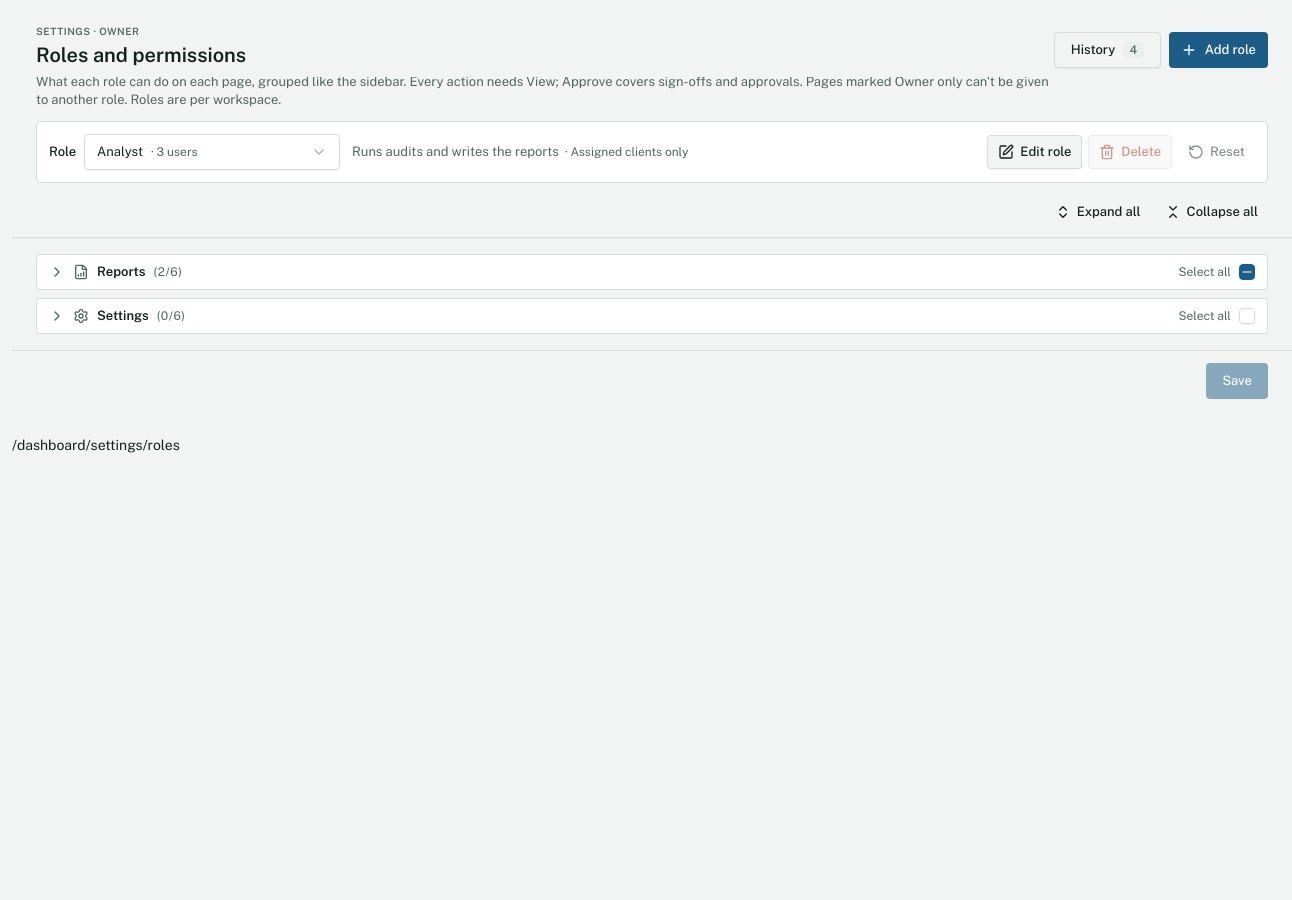
Scenario: RolesPage › expands and collapses every group
Expected: the dropdown named "Role" is shown, [84,134,340,170]
Click the button "Expand all" at (1098, 212), box [1045,195,1151,229]
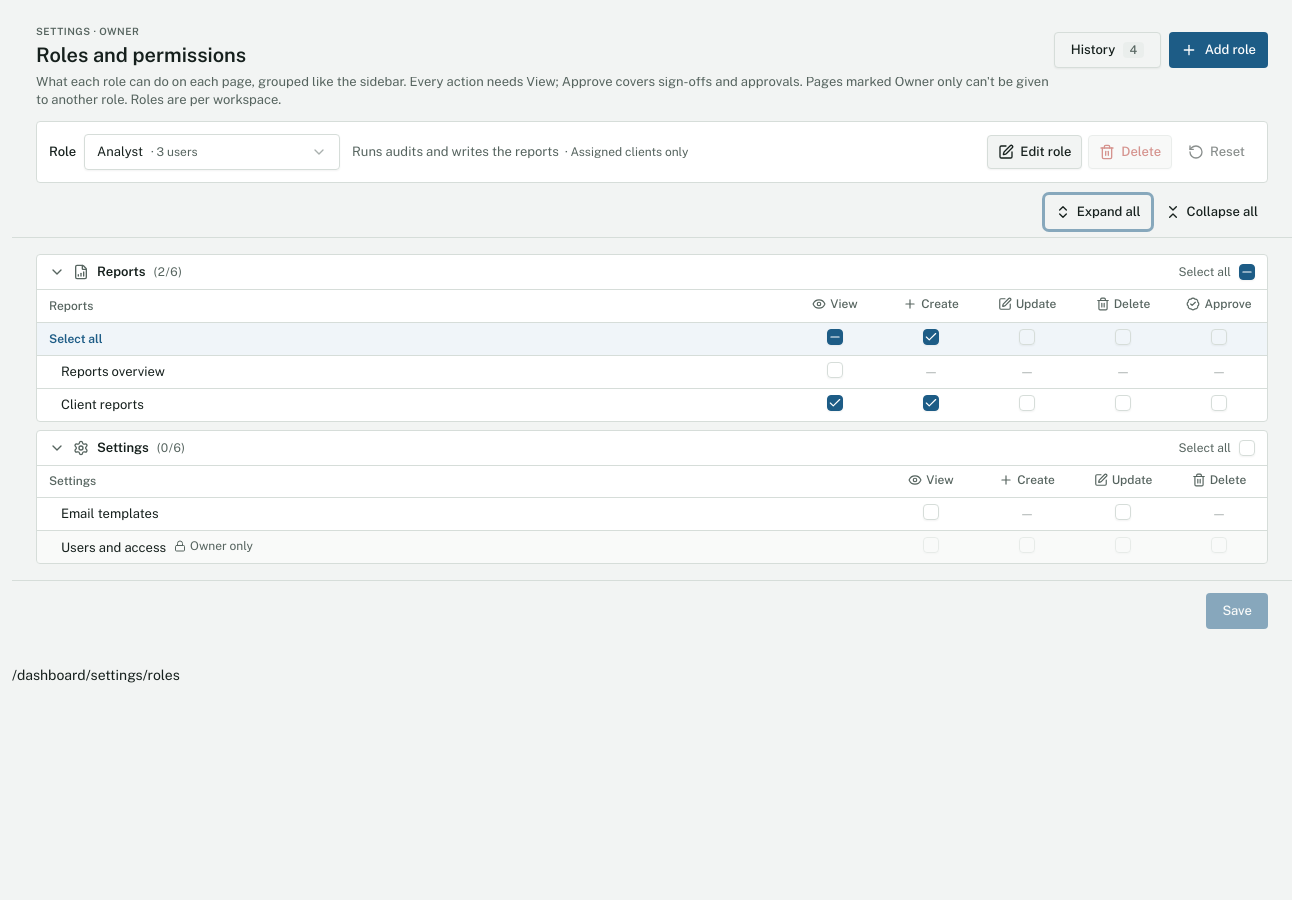
Expected: the button "Reports (2/6)" is expanded, [49,263,1166,281]
Expected: the button "Settings (0/6)" is expanded, [49,438,1166,456]
Click the button "Collapse all" at (1211, 212), box [1155,195,1268,229]
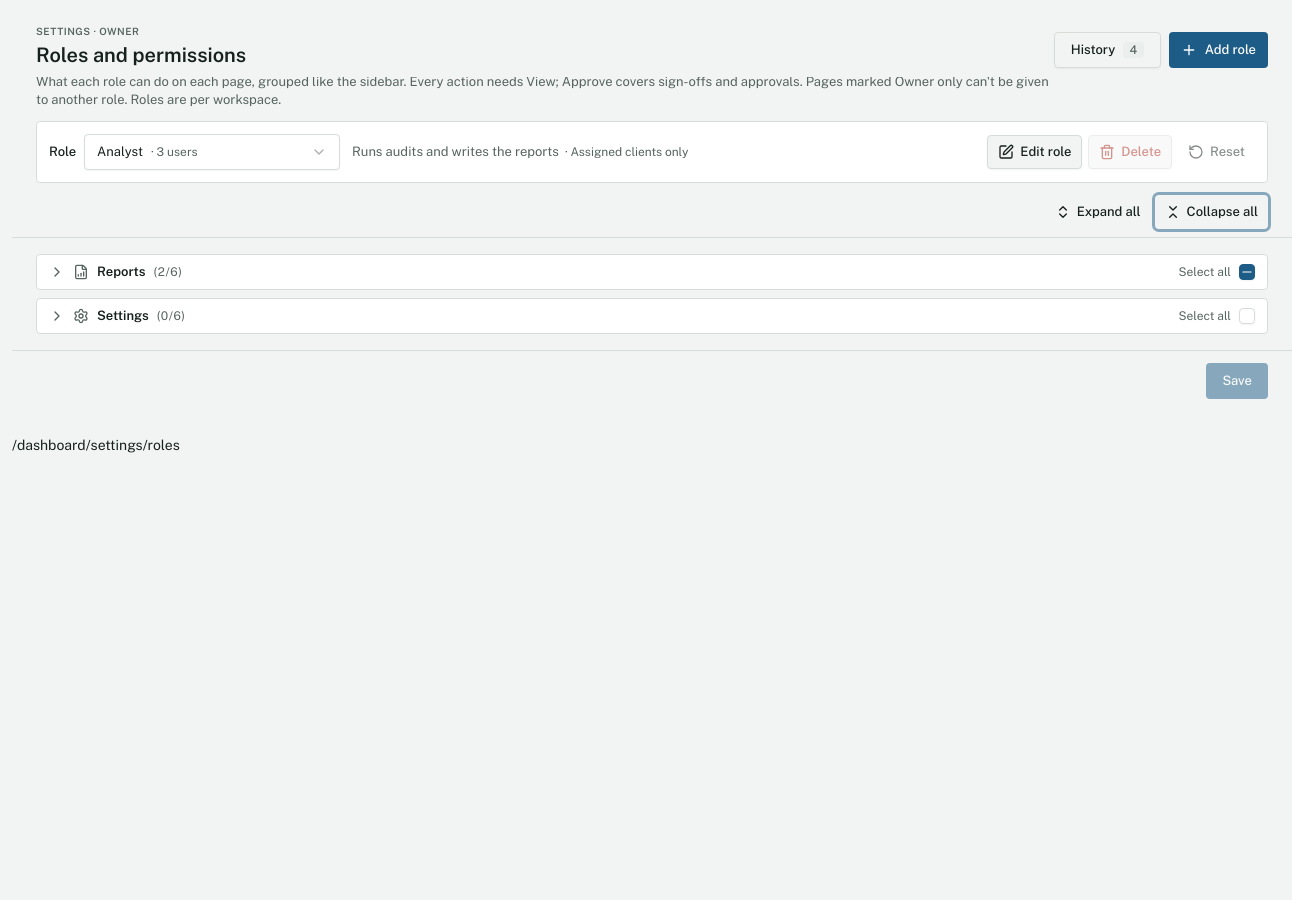
Expected: the button "Reports (2/6)" is collapsed, [49,263,1166,281]
